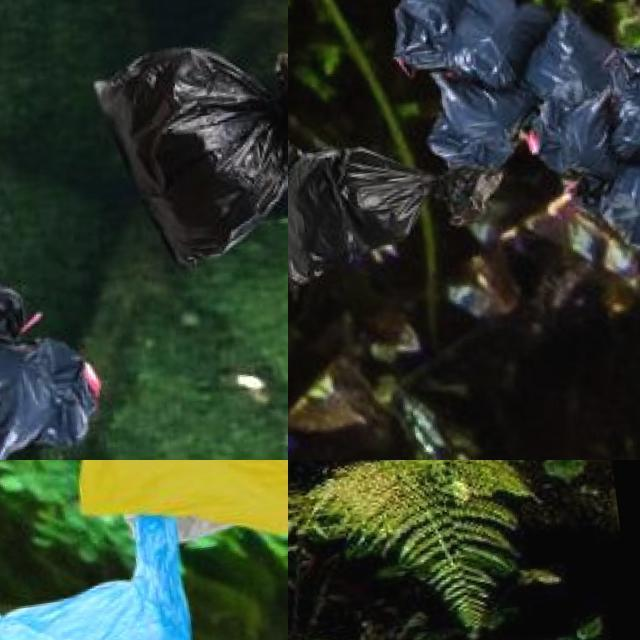waste: (76, 30, 288, 271), (288, 113, 511, 285), (0, 509, 240, 640), (54, 460, 288, 561), (378, 0, 555, 97), (0, 319, 115, 460), (519, 92, 621, 176), (589, 166, 640, 296), (600, 89, 640, 181), (607, 35, 640, 97)
